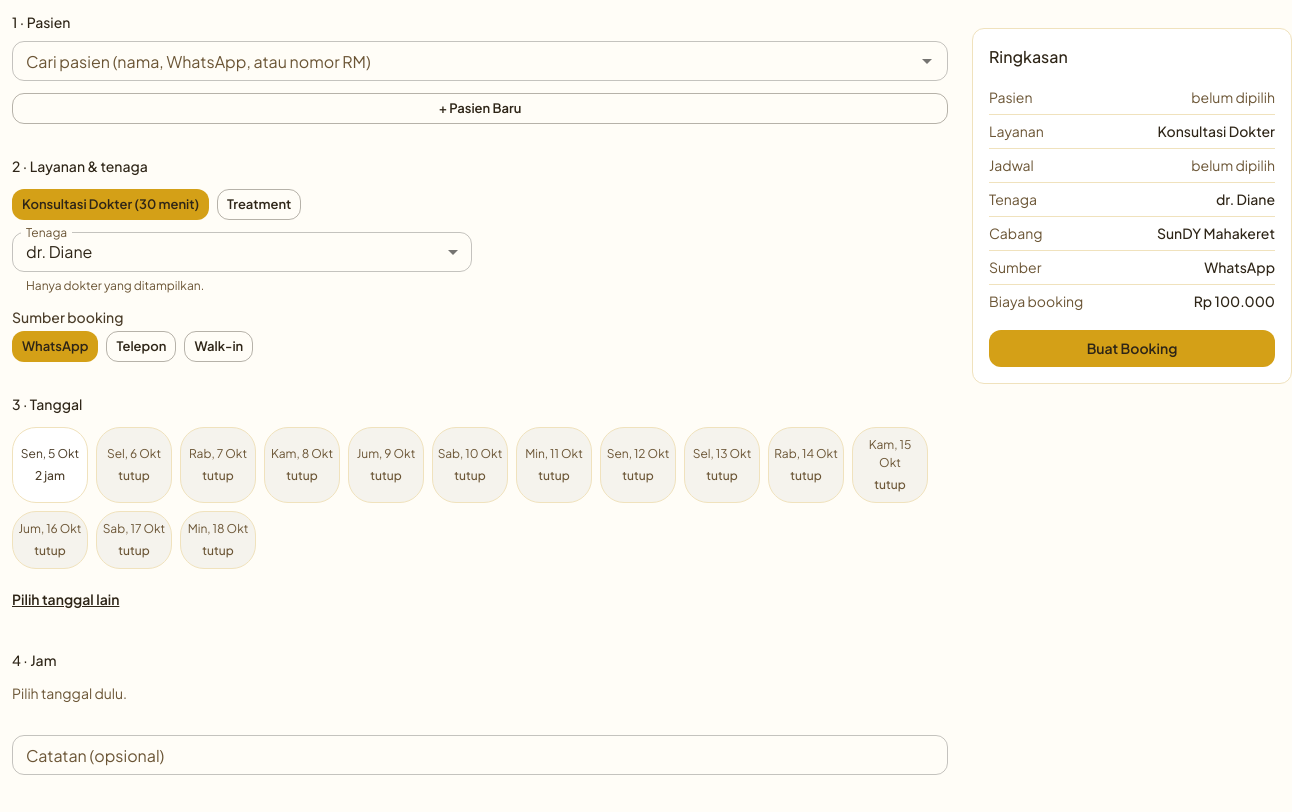
Test: AppointmentForm › ringkasan terisi bertahap, lalu Buat Booking menampilkan panel dengan instruksi transfer
Type "maria" into the dropdown labelled "Cari pasien (nama, WhatsApp, atau nomor RM)" at (464, 61), box [18,47,909,75]
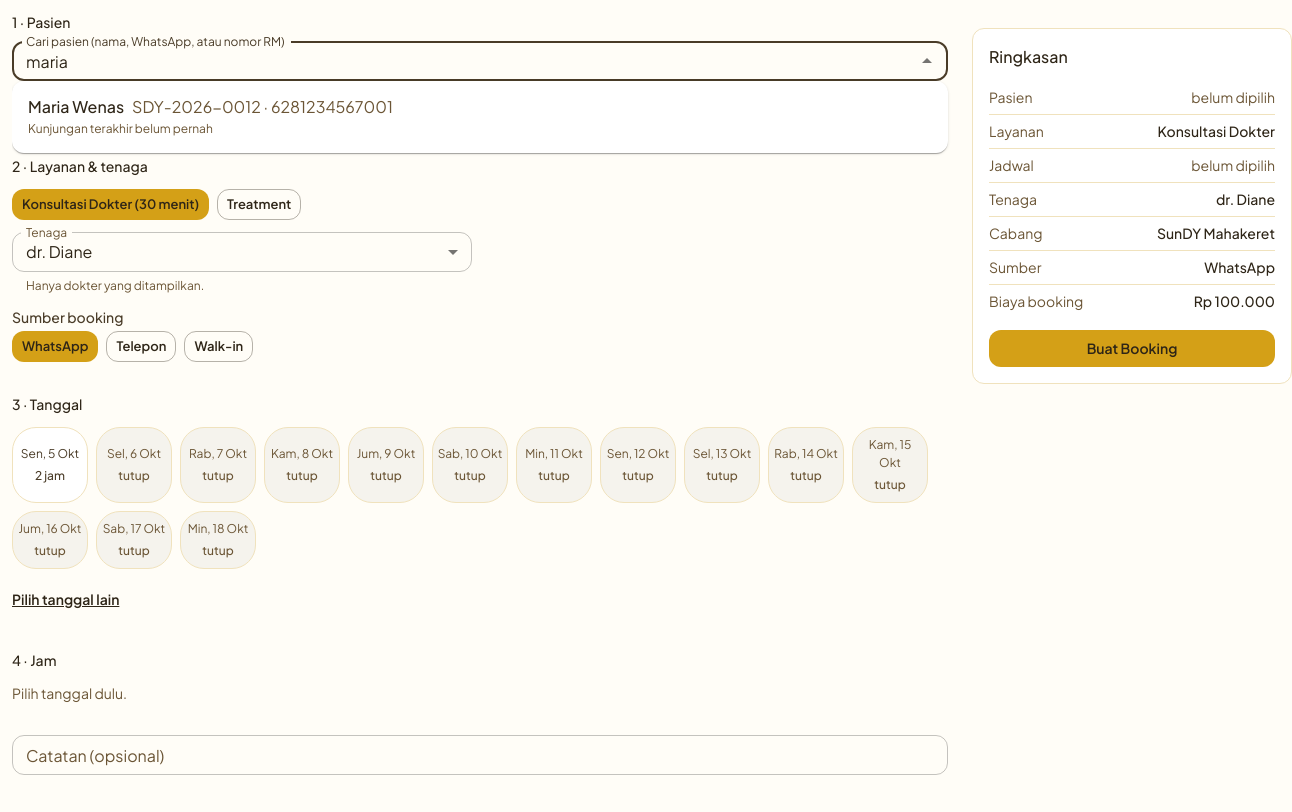
Click the option "Maria Wenas" at (210, 116), box [28,96,393,136]
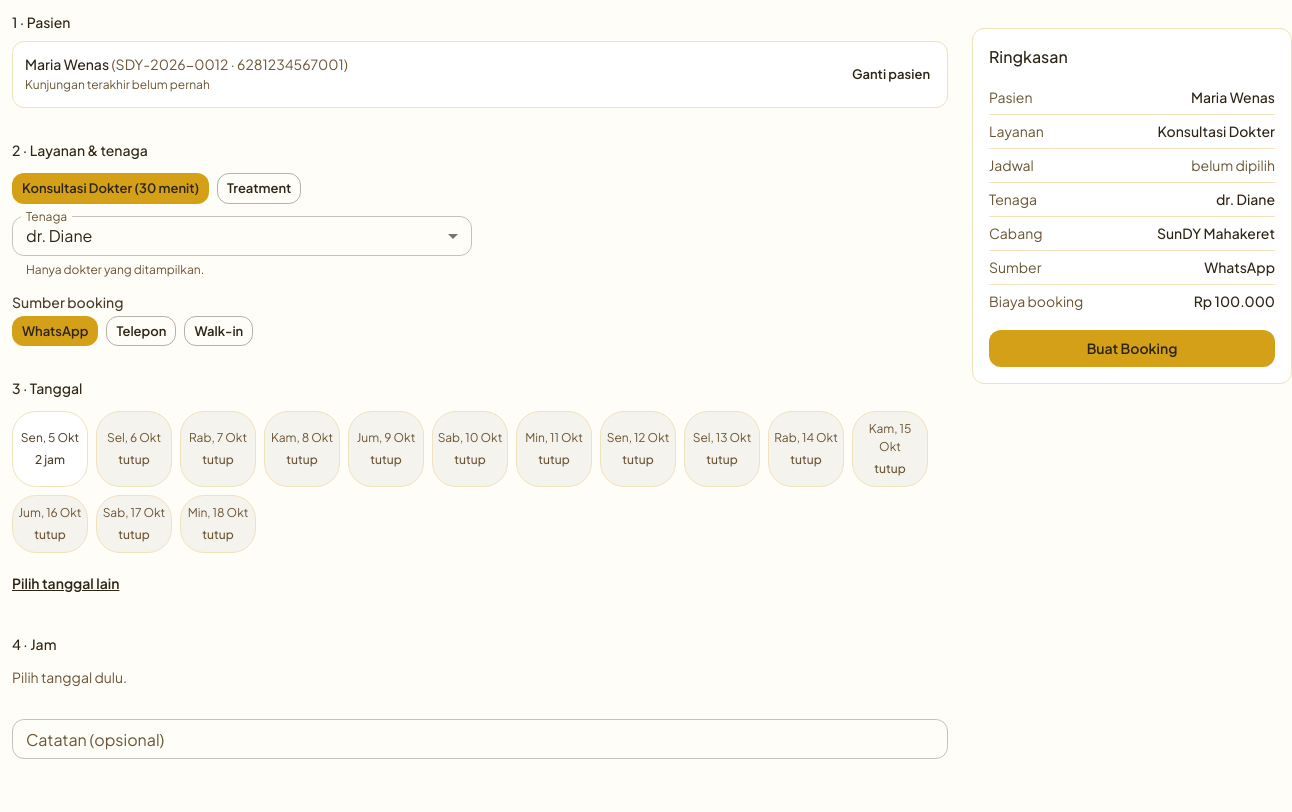
Click the button with aria-label "Senin, 5 Oktober 2026 — 2 jam kosong" at (50, 449), box [12,411,88,487]
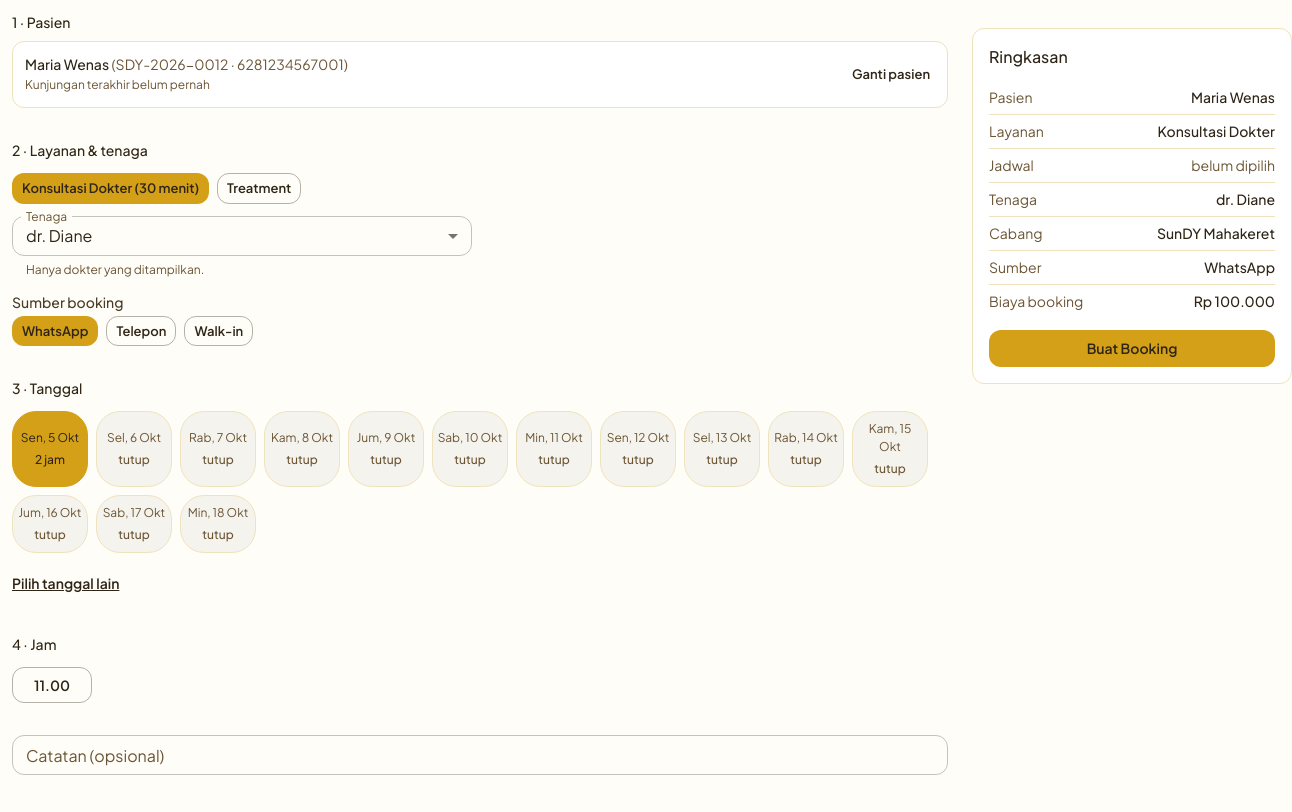
Click the button "11.00" at (52, 685), box [12,667,92,703]
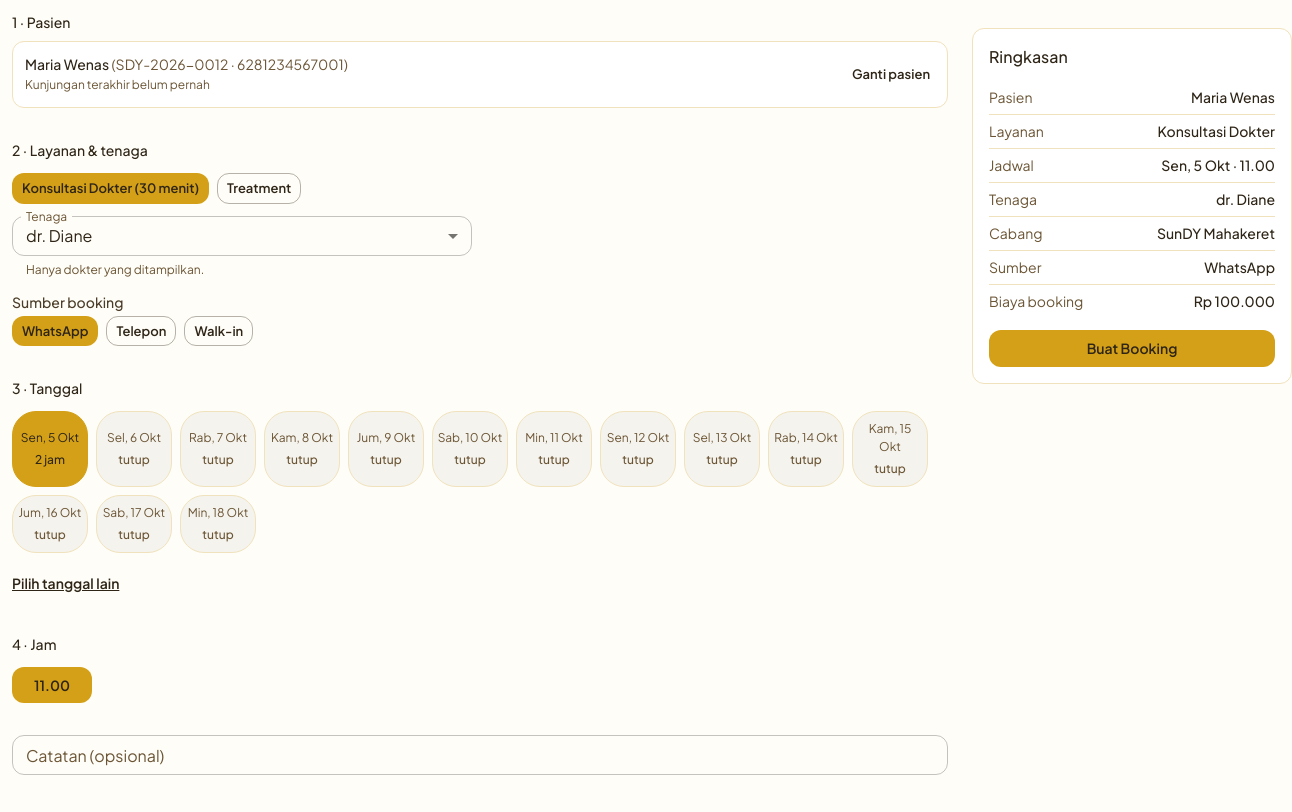
Click the button "Buat Booking" at (1132, 348), box [989,330,1275,366]
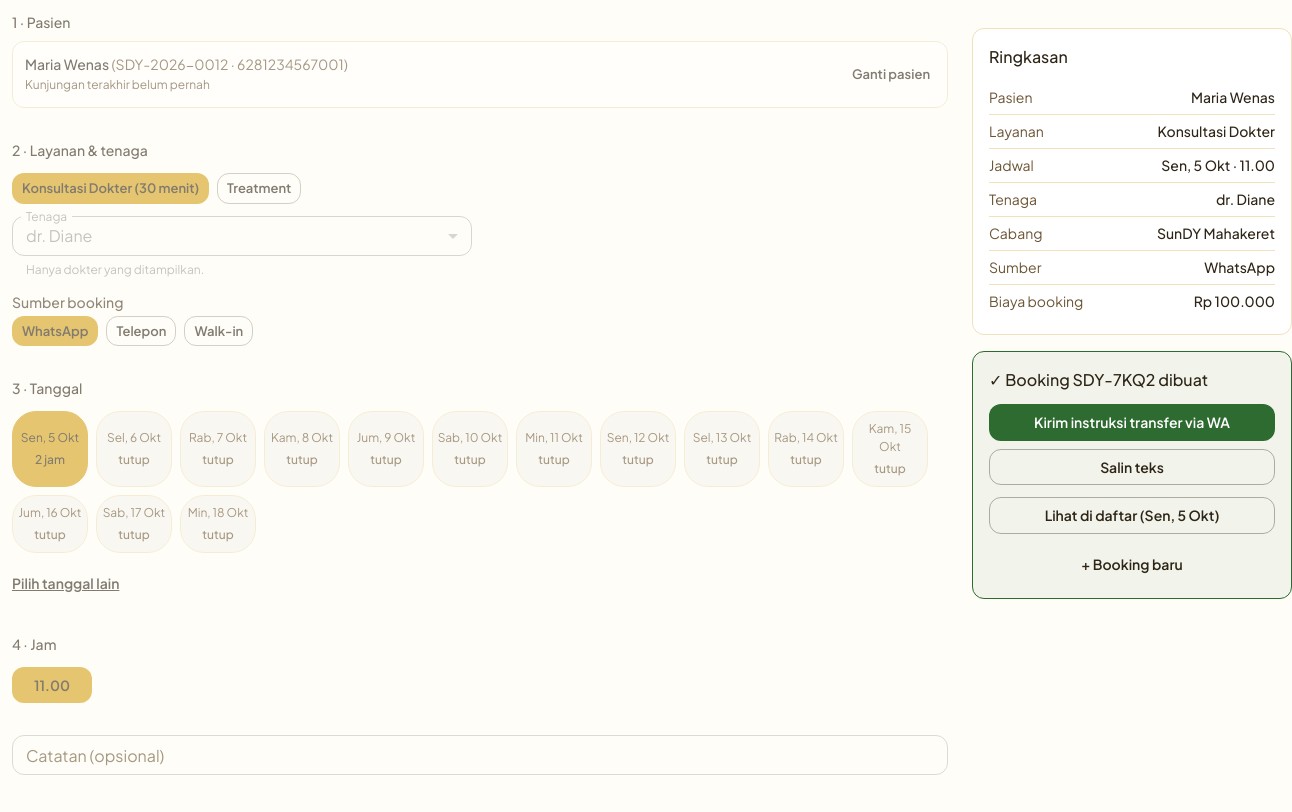
Expected: the heading "✓ Booking SDY-7KQ2 dibuat" is shown, [989,369,1208,390]
